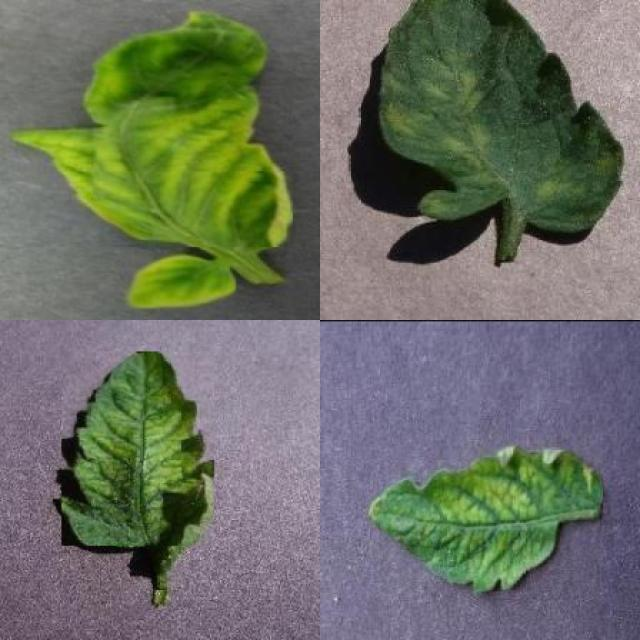Leaf Mold: (379, 0, 624, 229)
Mosaic Virus: (367, 445, 603, 592), (62, 351, 215, 546)
Yellow Leaf Curl Virus: (8, 10, 293, 247), (123, 255, 236, 308)
